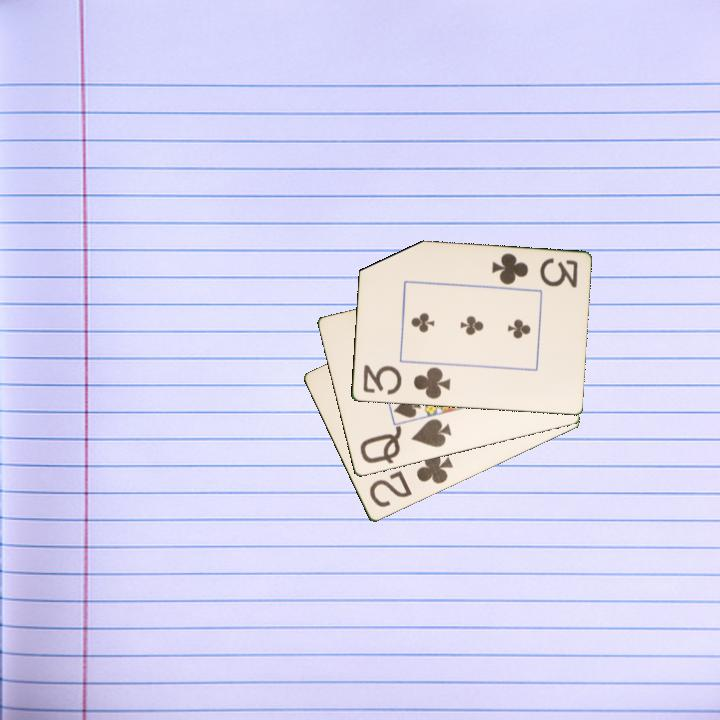2c: (365, 450, 456, 511)
3c: (488, 250, 580, 291), (359, 362, 453, 402)
Qs: (356, 415, 454, 467)
